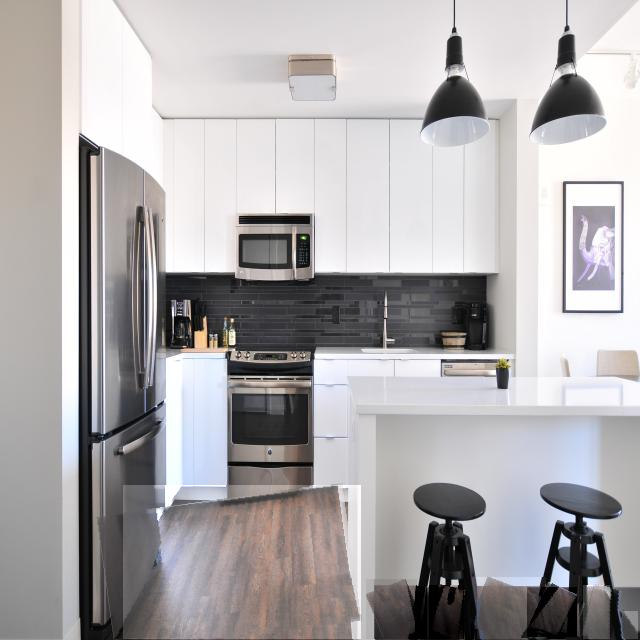floor: (123, 486, 361, 639), (478, 577, 546, 639), (367, 580, 417, 639), (527, 588, 577, 637), (429, 585, 464, 640), (584, 586, 610, 639), (417, 587, 427, 639), (623, 611, 638, 640), (572, 607, 585, 636), (471, 623, 474, 639), (548, 636, 564, 639)
